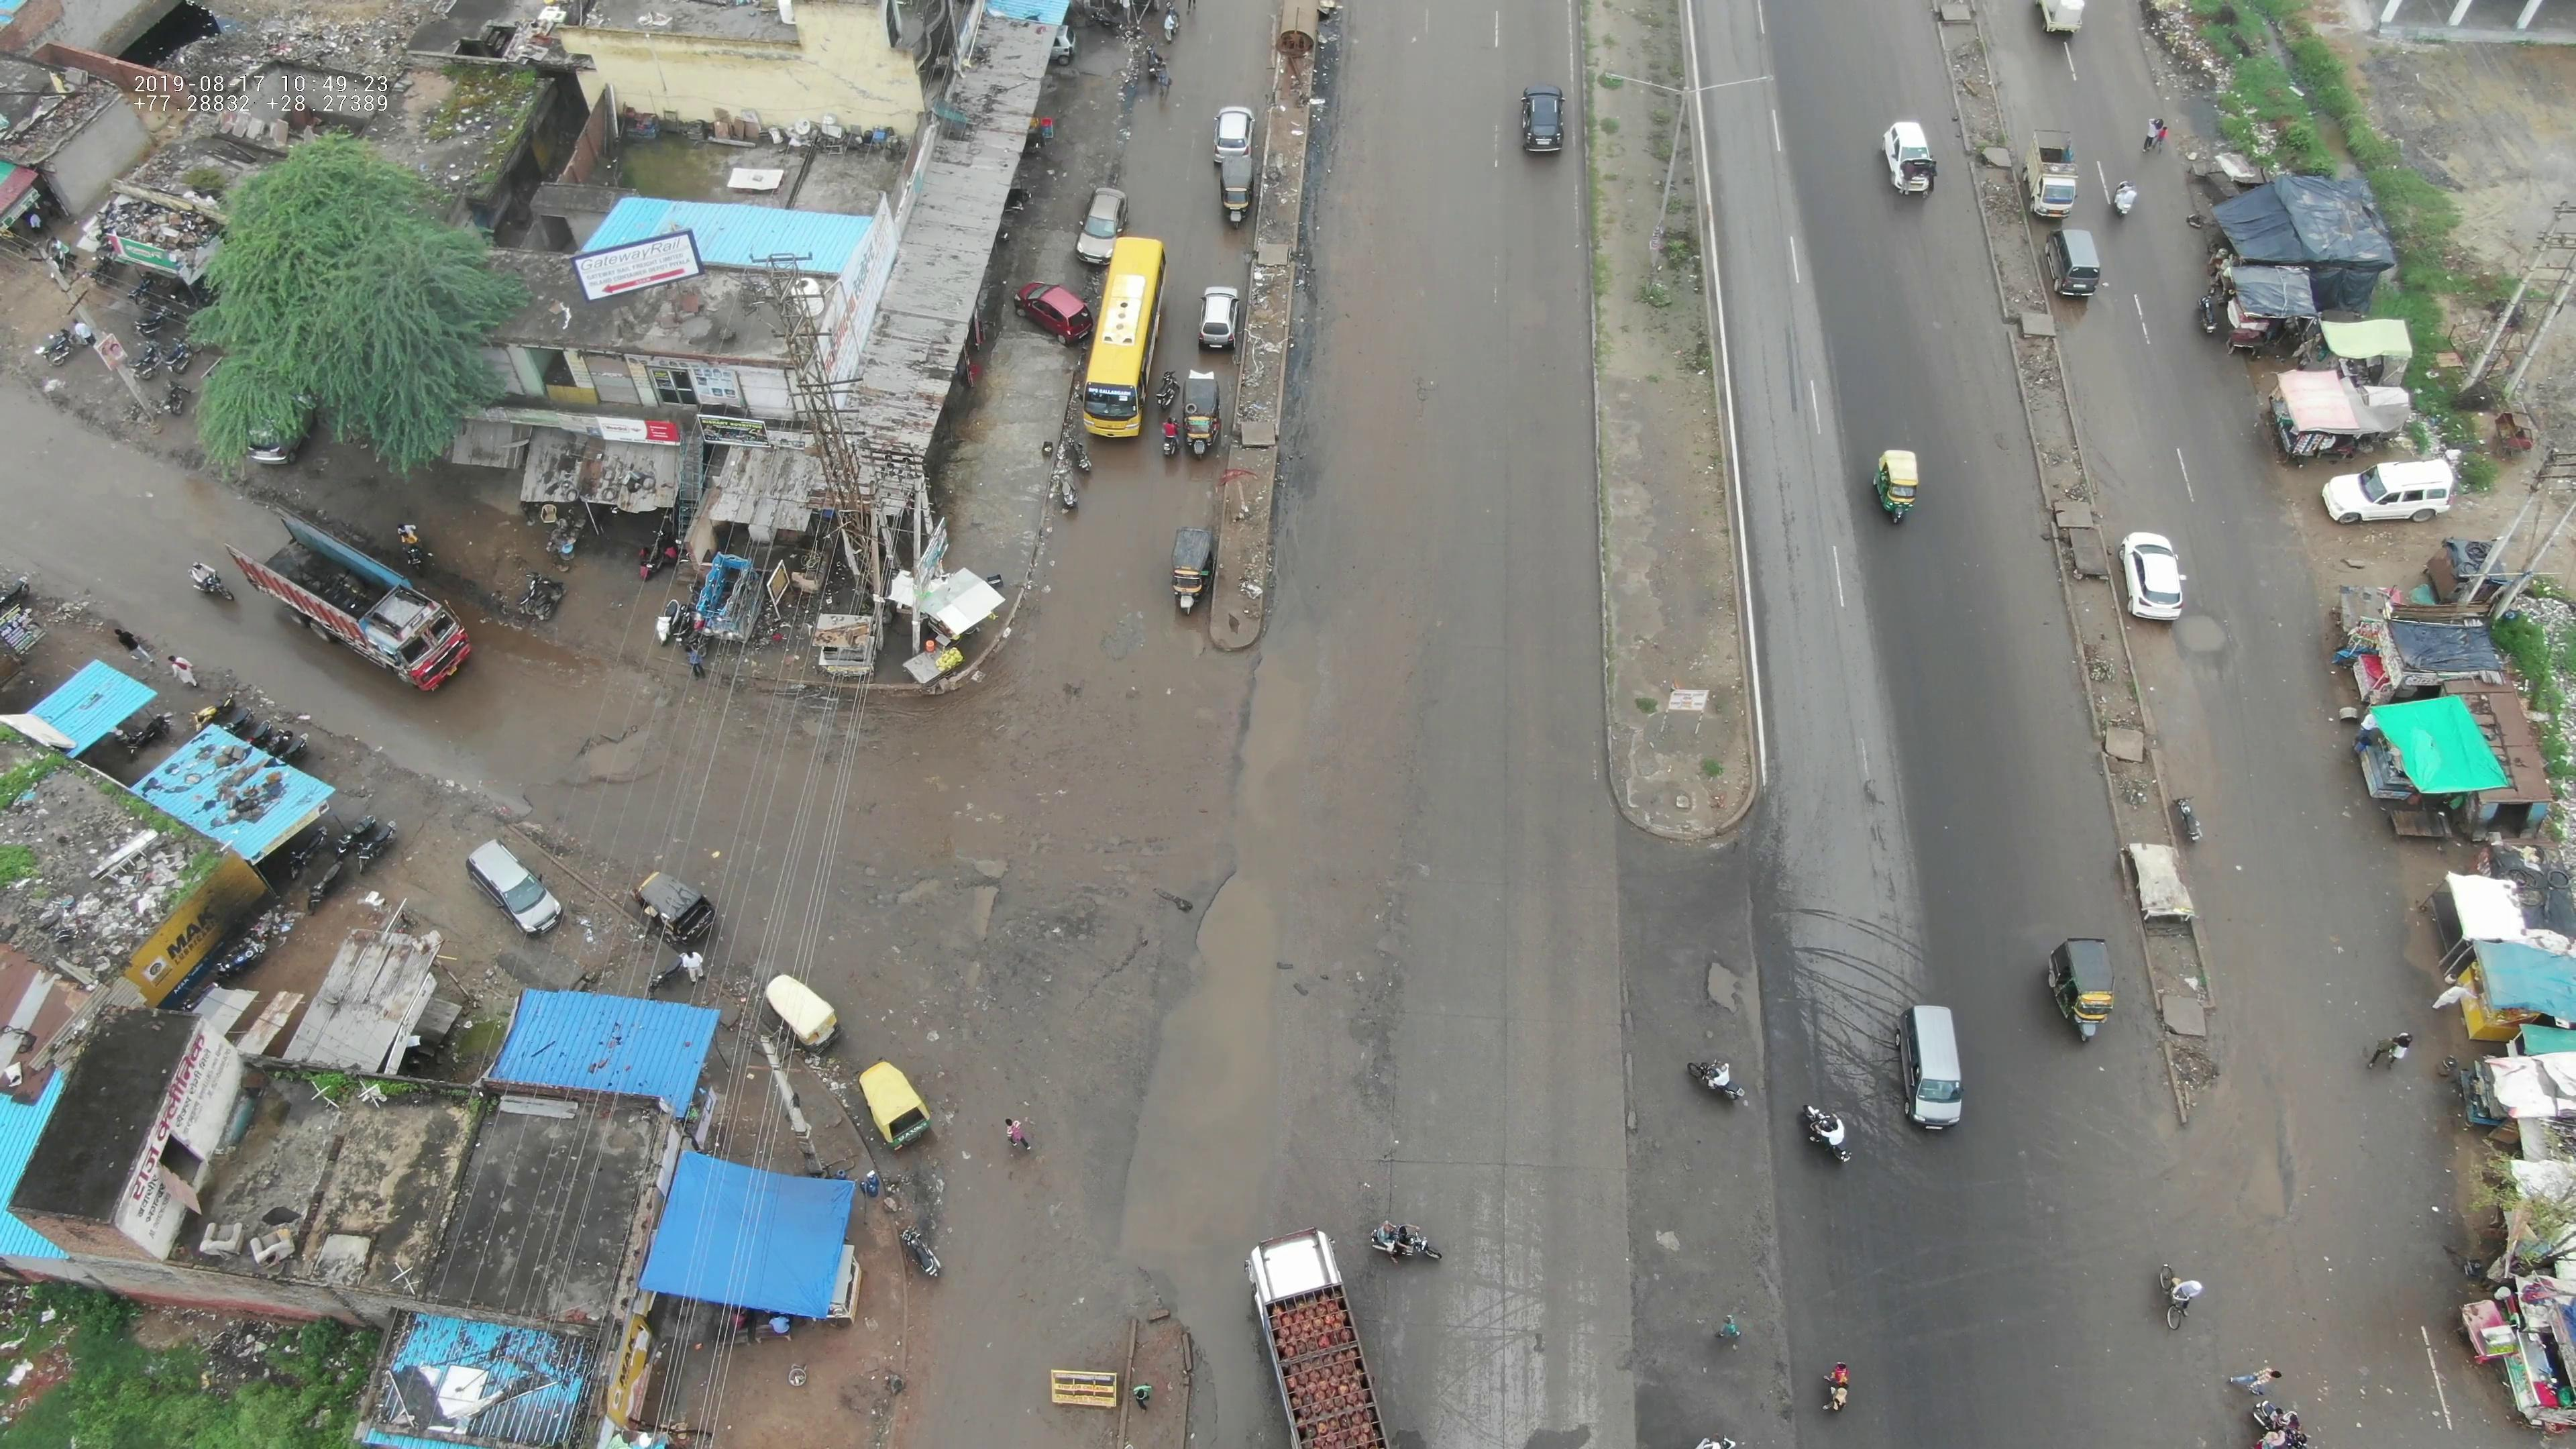Potholes: (2222, 1010, 2309, 1240), (1040, 879, 1157, 1008), (563, 706, 681, 791)
